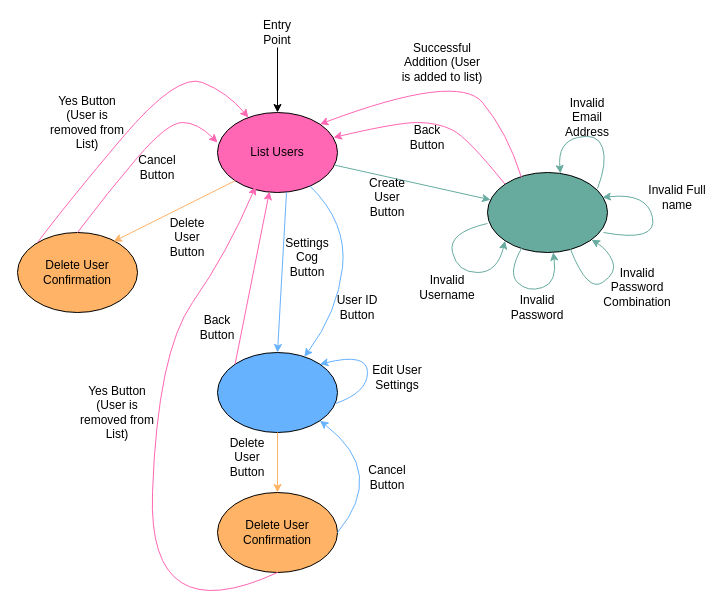
The diagram is 725 pixels wide and 608 high, and some of its shapes have lost their labels. Here are the shapes that lost their labels. From the top down, the box of each, then its label:
(486, 172, 608, 252): Add User
(216, 352, 338, 432): User Settings
